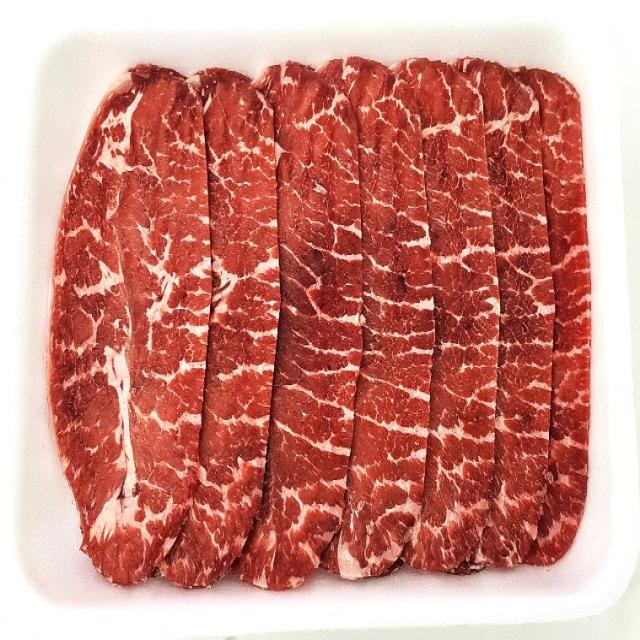beef: (110, 156, 460, 423)
